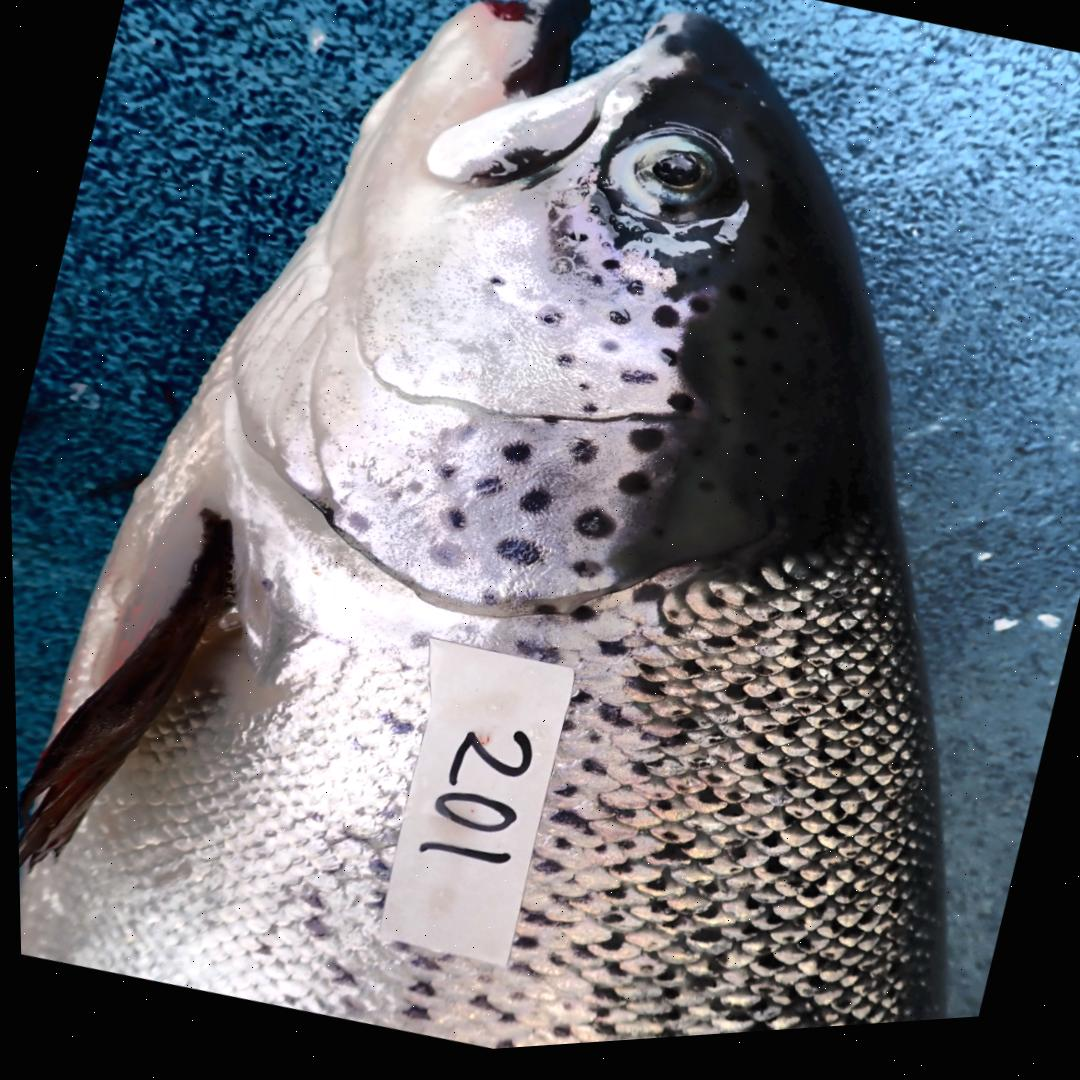spot: (570, 517, 612, 548), (492, 545, 537, 572), (423, 549, 463, 574), (626, 436, 661, 462), (614, 480, 647, 504), (516, 497, 548, 521), (567, 447, 595, 472), (649, 314, 678, 338), (498, 449, 529, 471), (569, 568, 599, 587), (472, 483, 500, 503), (618, 379, 655, 394), (442, 514, 465, 538), (665, 402, 691, 423), (535, 314, 562, 334), (656, 356, 677, 378), (435, 471, 455, 487), (623, 289, 644, 304), (604, 319, 626, 333), (530, 612, 557, 622), (576, 411, 595, 423), (538, 421, 557, 433), (566, 239, 588, 249), (554, 362, 570, 375), (600, 268, 617, 280), (598, 349, 616, 360), (488, 284, 505, 294), (573, 389, 585, 401), (589, 284, 601, 295), (489, 486, 497, 491)
